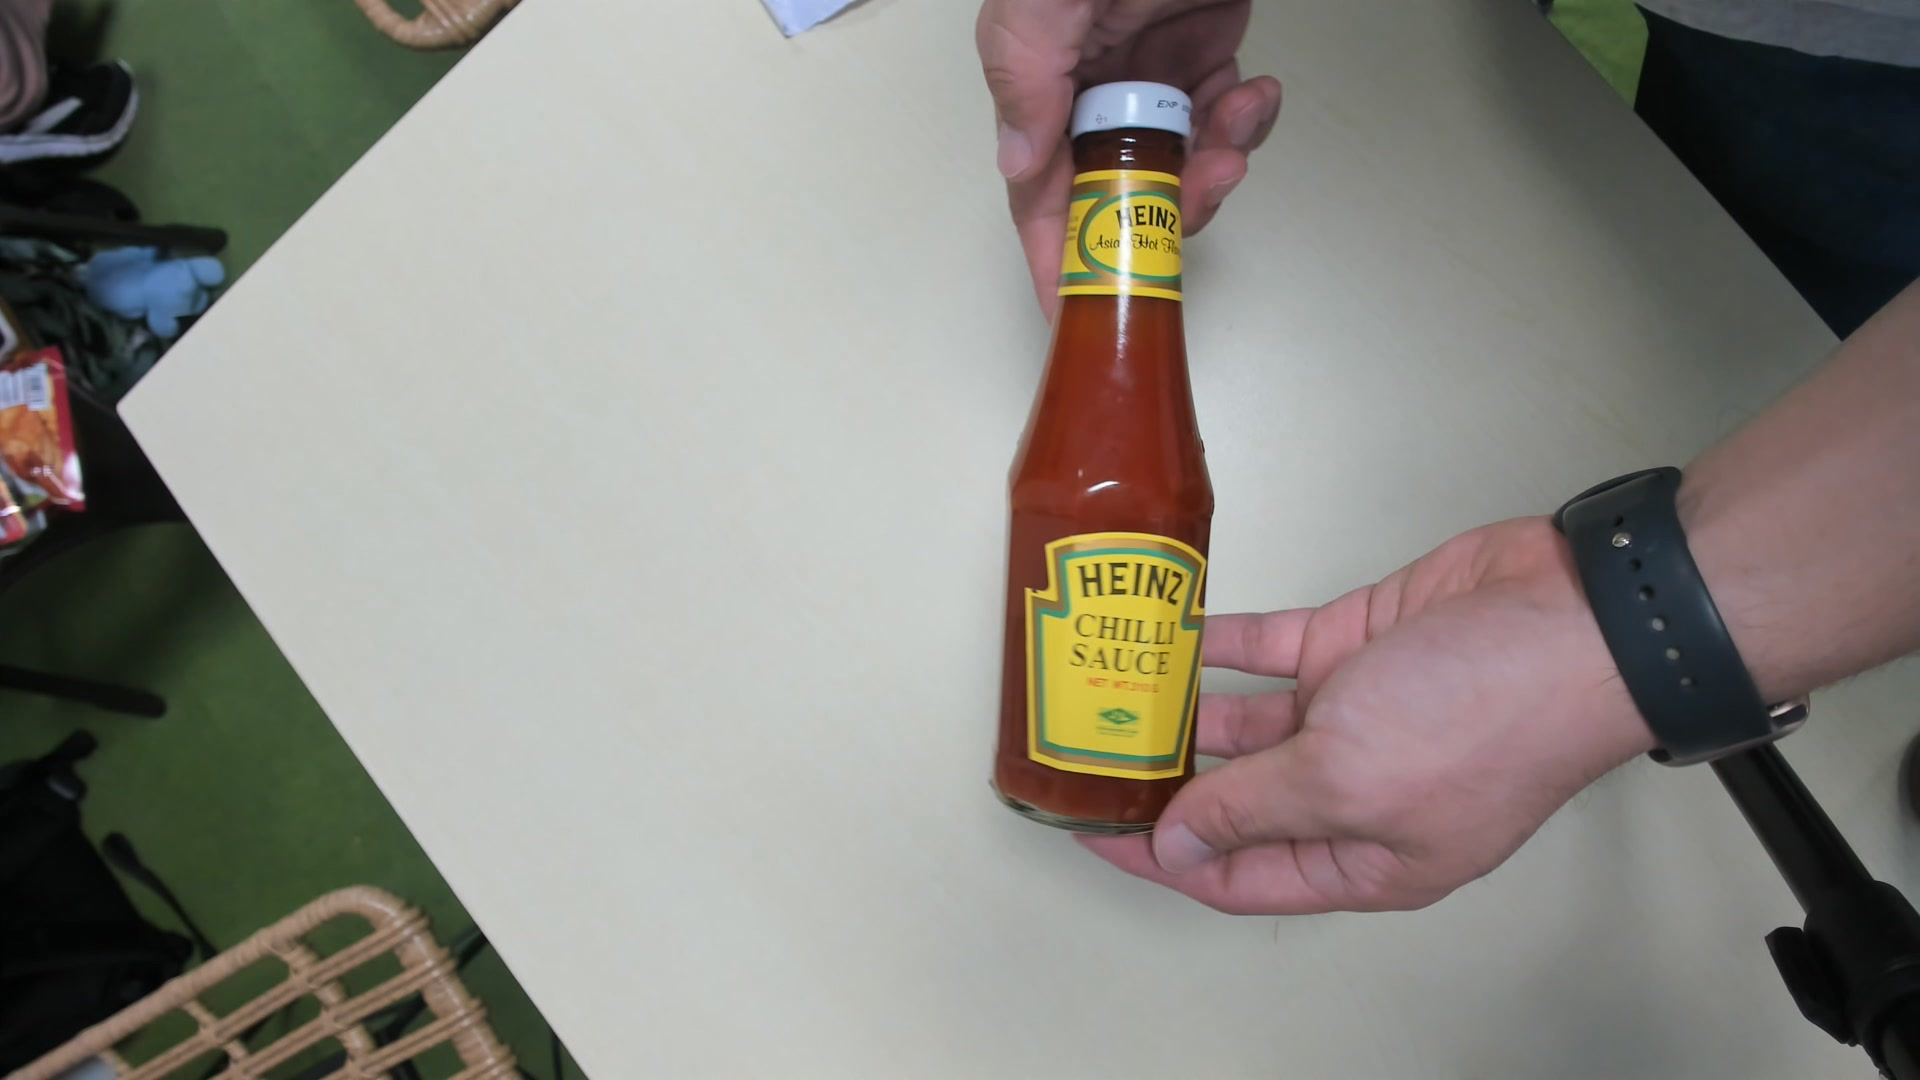KetchupChillSauce_300-399g_Halal_NonHealthy: (993, 76, 1222, 841)
